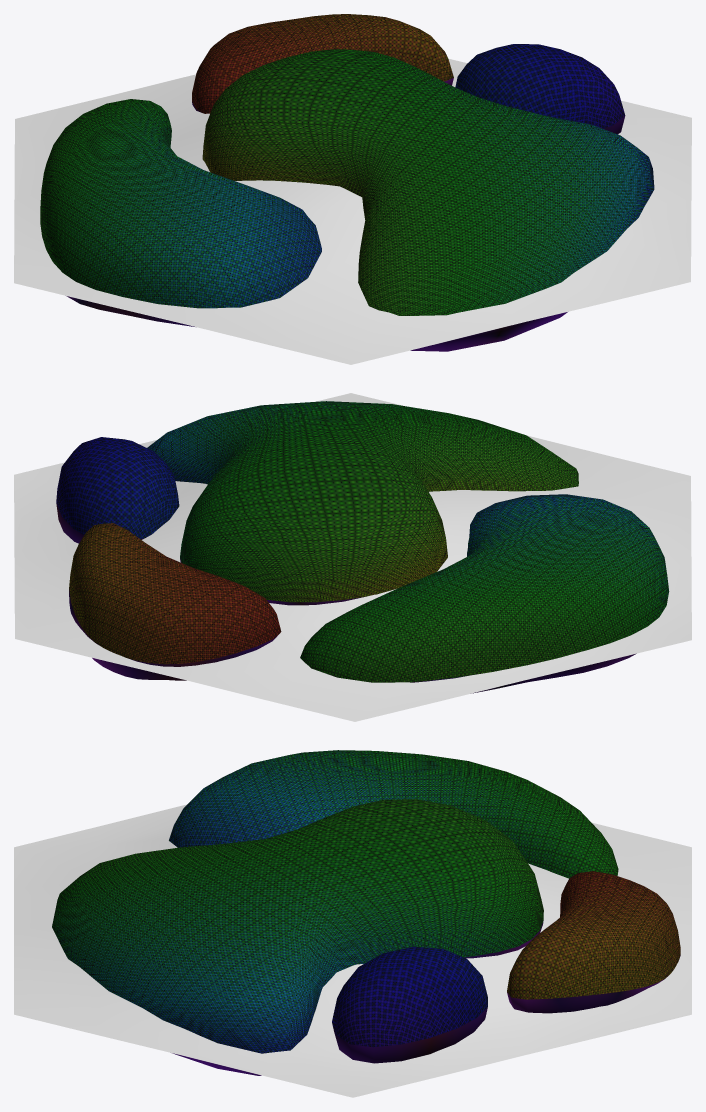
The model's file is Moss.fbx.
The picture shows the model from 3 angles, top to bottom: view 1: azimuth 30°, elevation 25°; view 2: azimuth 150°, elevation 25°; view 3: azimuth 270°, elevation 25°; orthographic projection.
Visible parts, largest first — view 1: Moss4, Ground, Moss3, Moss2, Moss1; view 2: Moss4, Moss3, Ground, Moss2, Moss1; view 3: Moss4, Ground, Moss3, Moss2, Moss1.
Boxes of the visible parts, box(x1,y1,x2,y2) form: Moss4: box(202, 49, 654, 351); Ground: box(14, 58, 691, 364); Moss3: box(40, 99, 321, 326); Moss2: box(192, 14, 453, 113); Moss1: box(455, 44, 625, 134); Moss4: box(147, 401, 578, 605); Moss3: box(300, 494, 669, 693); Ground: box(14, 393, 691, 721); Moss2: box(69, 523, 281, 680); Moss1: box(56, 437, 179, 543); Moss4: box(52, 799, 543, 1075); Ground: box(14, 804, 691, 1097); Moss3: box(169, 750, 618, 878); Moss2: box(507, 871, 680, 1013); Moss1: box(332, 946, 487, 1063).
Bounding box in the file's own units: 2 × 0.3968 × 1.72.
Materials: 2 (1 with a texture image).
